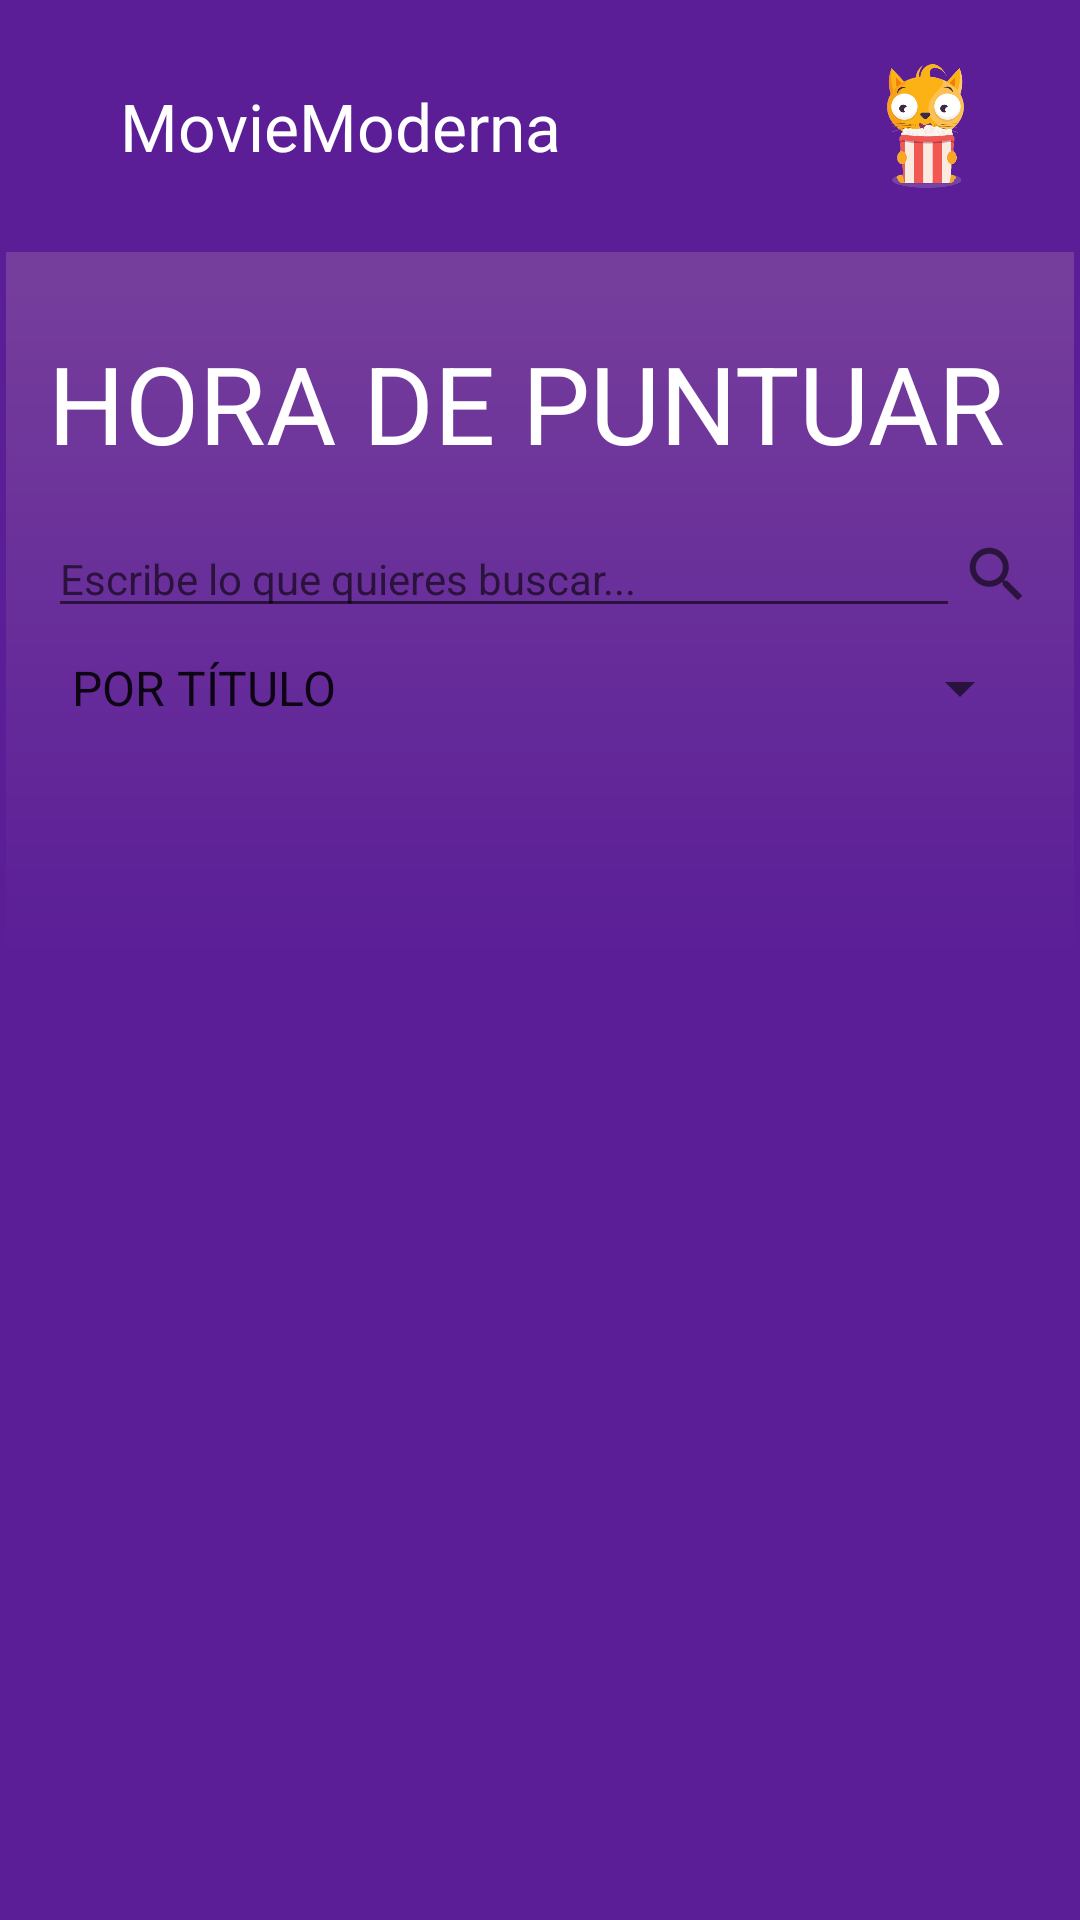

Locate icon controls on the screen. Image size 1080×1920, boxes as (x1, y1, x2, y2).
gato: (887, 64, 964, 188)
